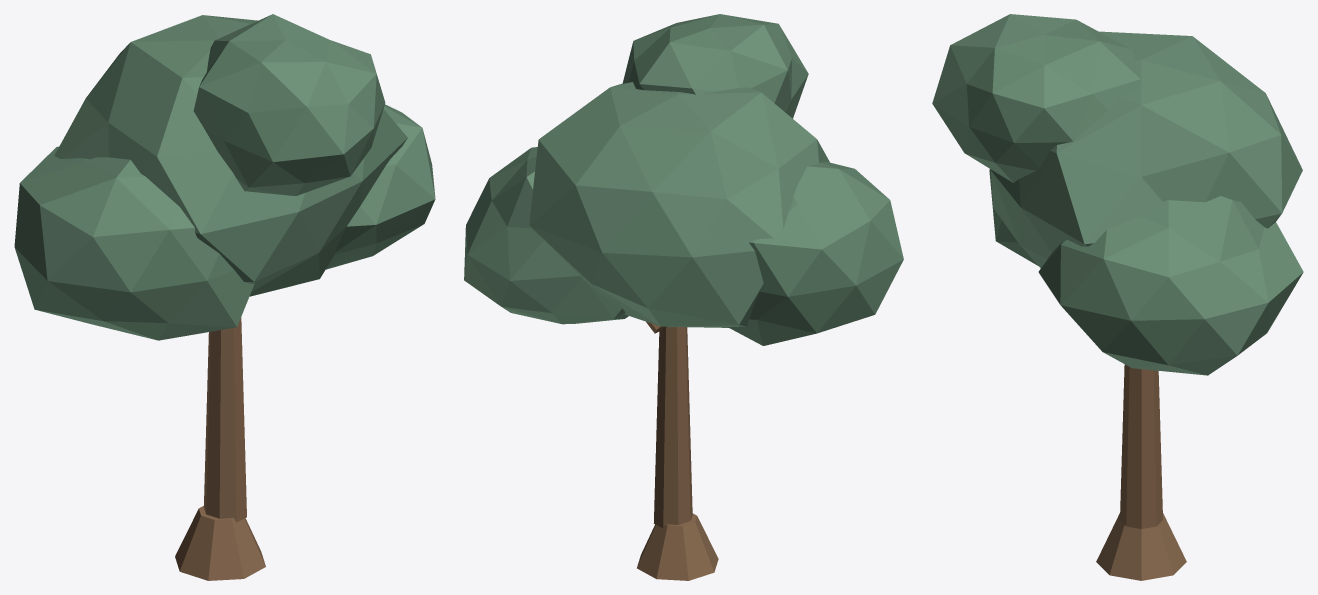
The model's file is colonyTree.glb.
The picture shows the model from 3 angles, left to right: view 1: azimuth 30°, elevation 25°; view 2: azimuth 150°, elevation 25°; view 3: azimuth 270°, elevation 25°; orthographic projection. The views are drawn at different scales.
Visible parts, largest first — view 1: colonyTree_foliage, colonyTree_bark; view 2: colonyTree_foliage, colonyTree_bark; view 3: colonyTree_foliage, colonyTree_bark.
Boxes of the visible parts, x1,y1,x2,y2 form: colonyTree_foliage: (14,14,435,340); colonyTree_bark: (175,317,265,580); colonyTree_foliage: (464,14,903,345); colonyTree_bark: (637,321,718,580); colonyTree_foliage: (932,14,1303,375); colonyTree_bark: (1096,364,1186,580).
Bounding box in the file's own units: 4.3 × 5.46 × 3.44.
